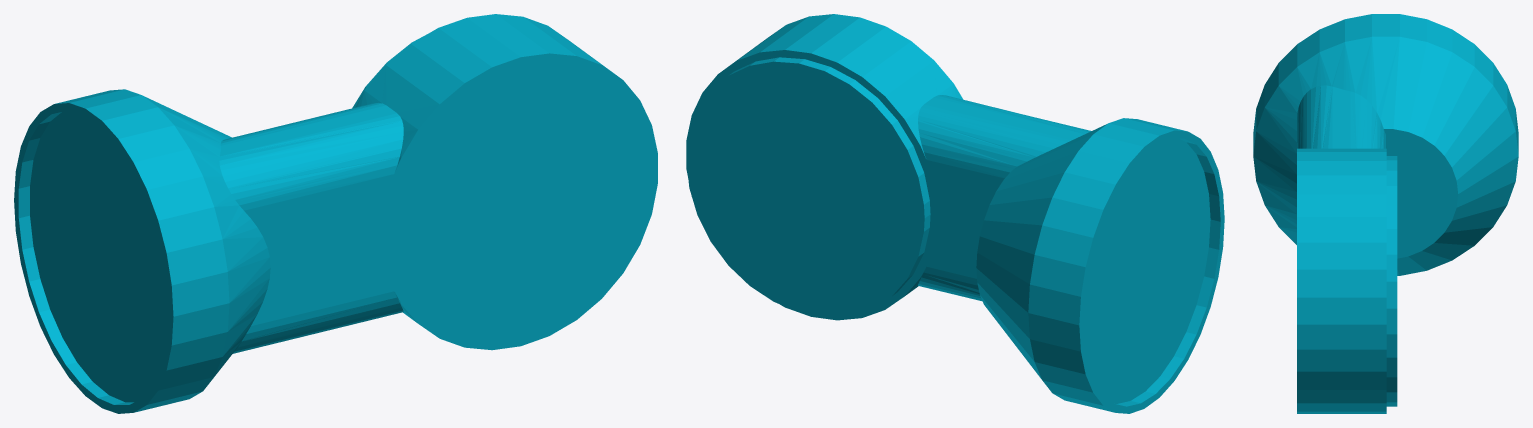
Rendered from upperarm_roll_link.dae.
The picture shows the model from 3 angles, left to right: view 1: azimuth 30°, elevation 25°; view 2: azimuth 150°, elevation 25°; view 3: azimuth 270°, elevation 25°; orthographic projection. The views are drawn at different scales.
Parts seen in each view (by area): view 1: upperarm_roll_link; view 2: upperarm_roll_link; view 3: upperarm_roll_link.
Part boxes in pixels (box(x1,y1,x2,y2)): upperarm_roll_link: box(14, 14, 657, 413); upperarm_roll_link: box(686, 14, 1224, 413); upperarm_roll_link: box(1253, 14, 1518, 413).
Bounding box in the file's own units: 0.1368 × 0.074 × 0.075.
